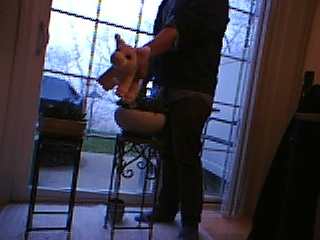piggy: (95, 32, 152, 105)
